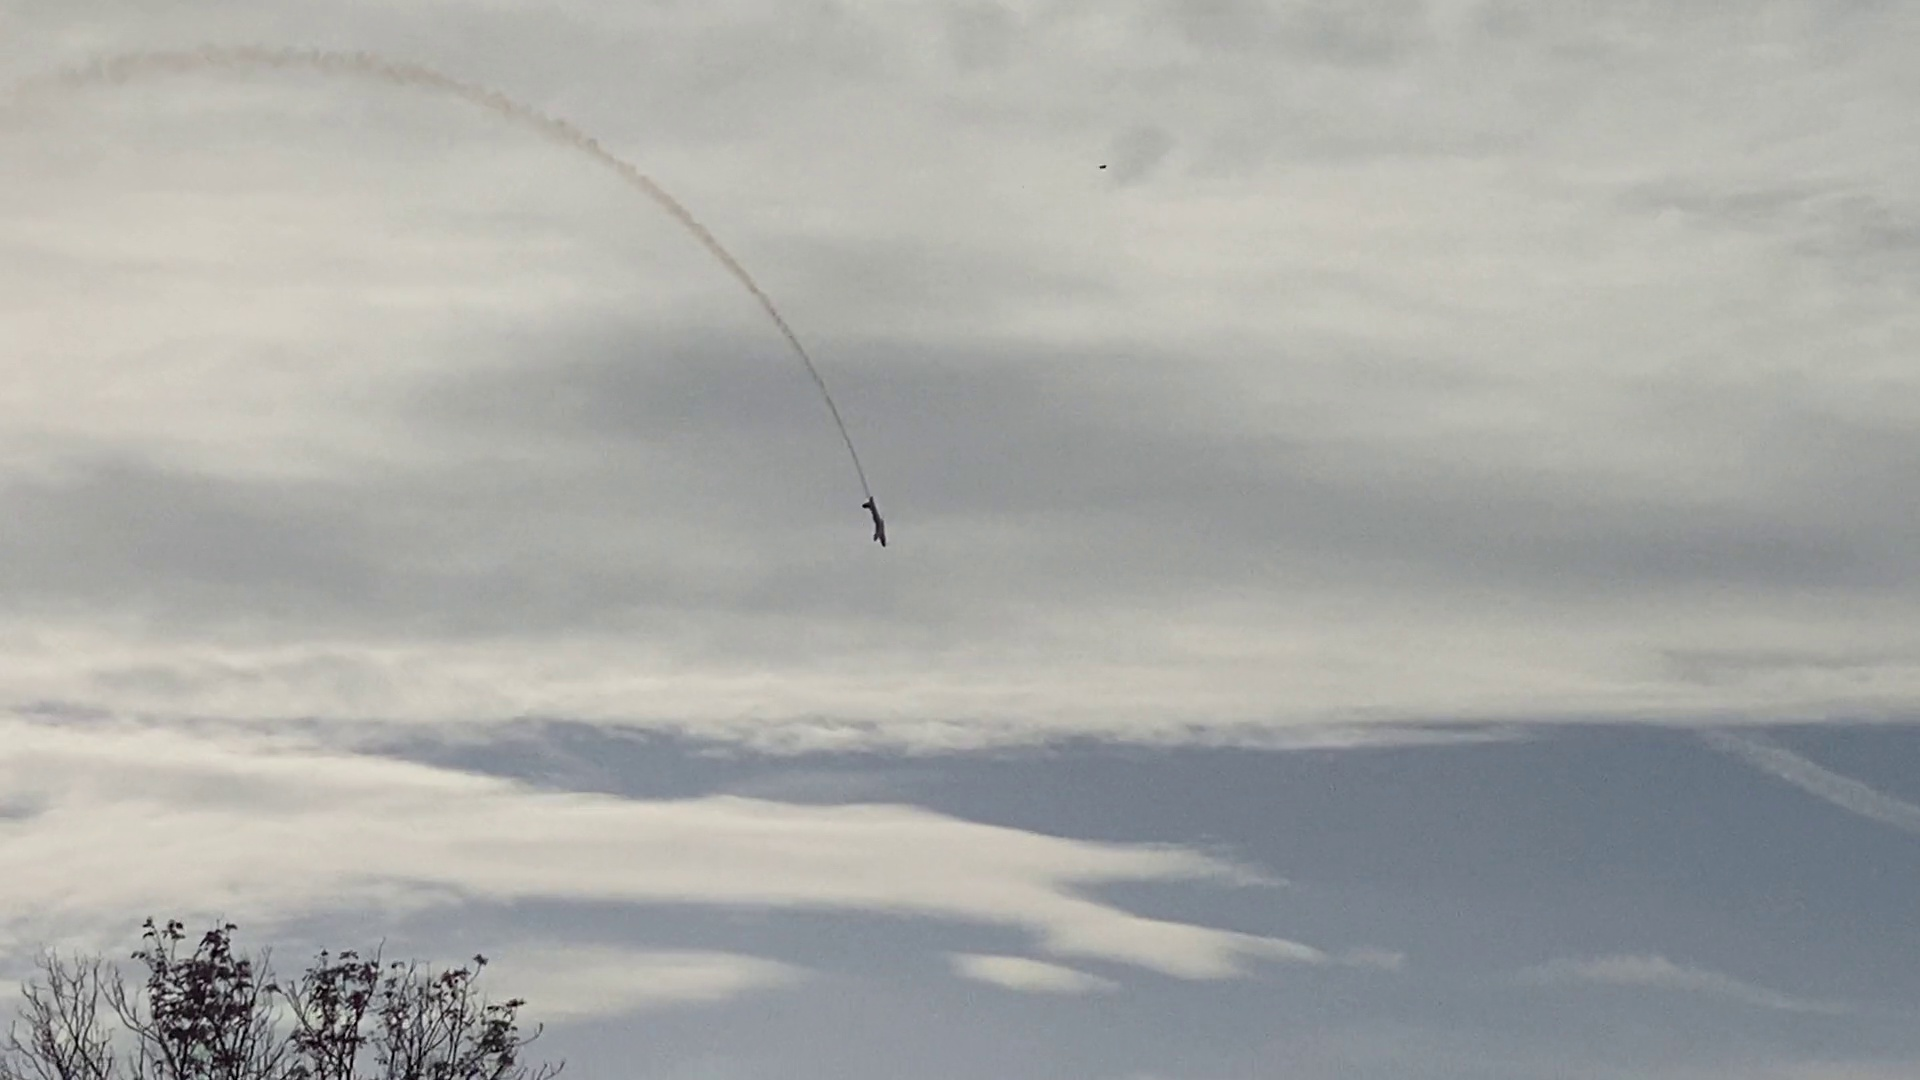plane: (861, 495, 887, 551)
